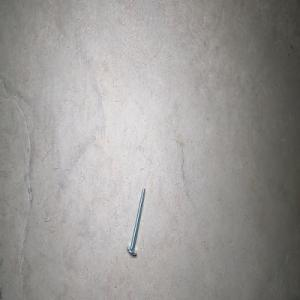Bolt: (126, 186, 145, 255)
